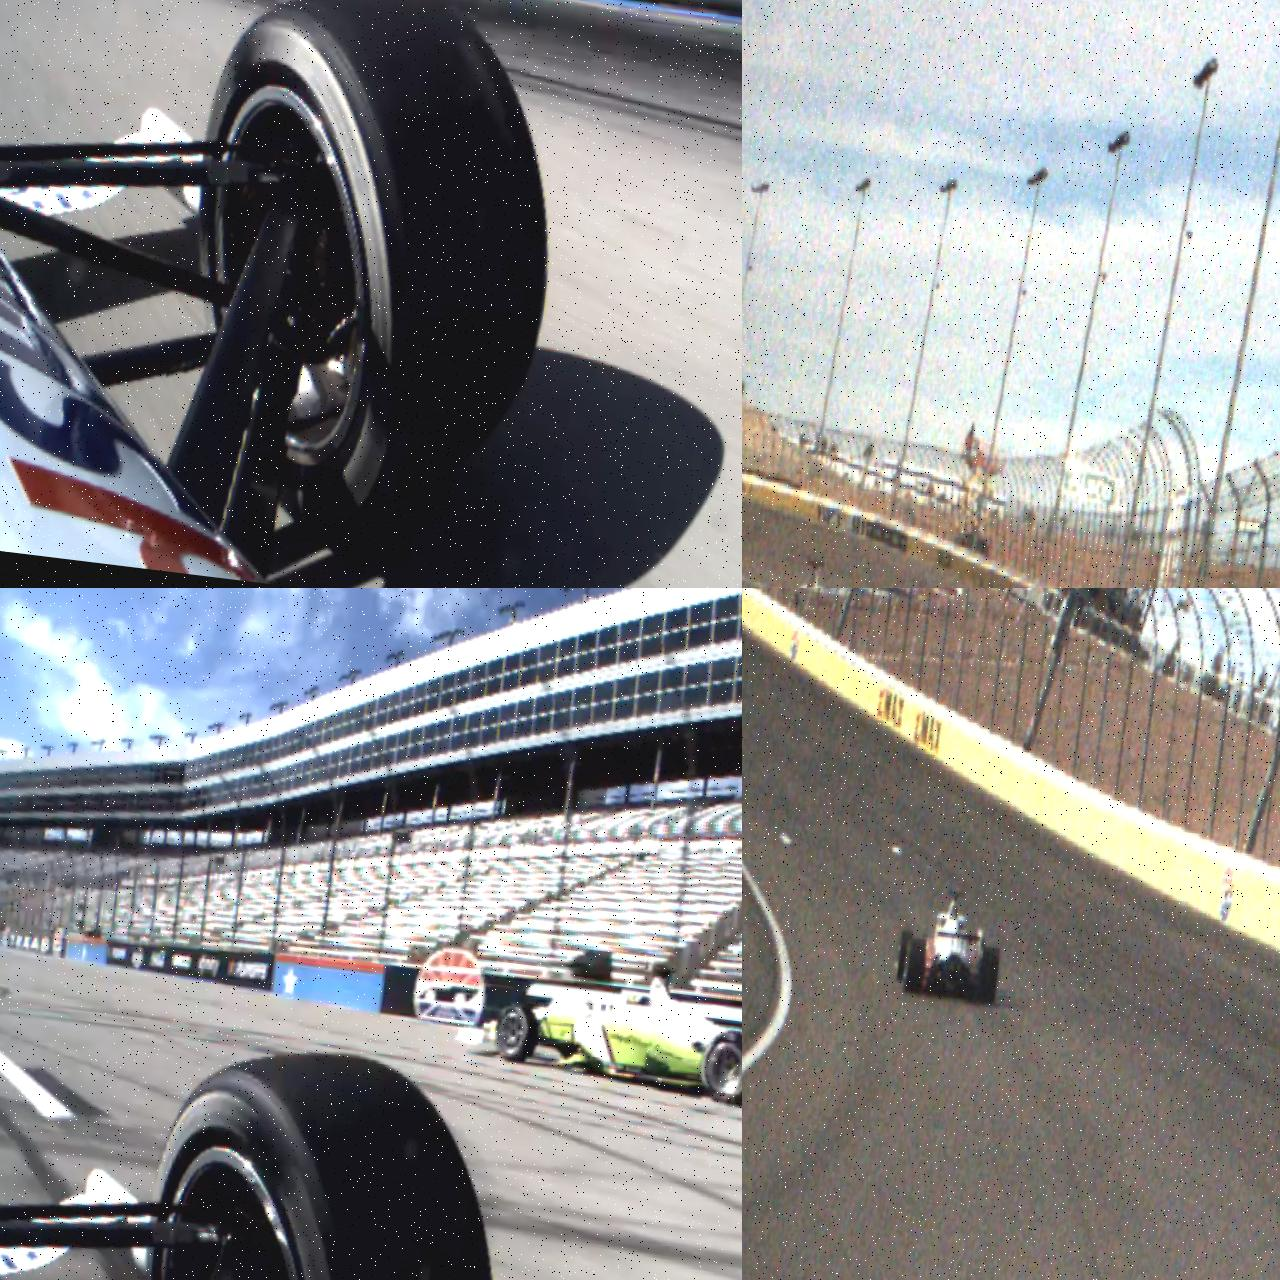AV: (450, 937, 742, 1111), (890, 881, 1009, 1008), (745, 553, 867, 588)
Wheel: (158, 0, 579, 566), (105, 1029, 526, 1280), (697, 1026, 742, 1107), (493, 1001, 542, 1068), (901, 937, 928, 995), (978, 946, 1002, 1006), (896, 930, 914, 983)
